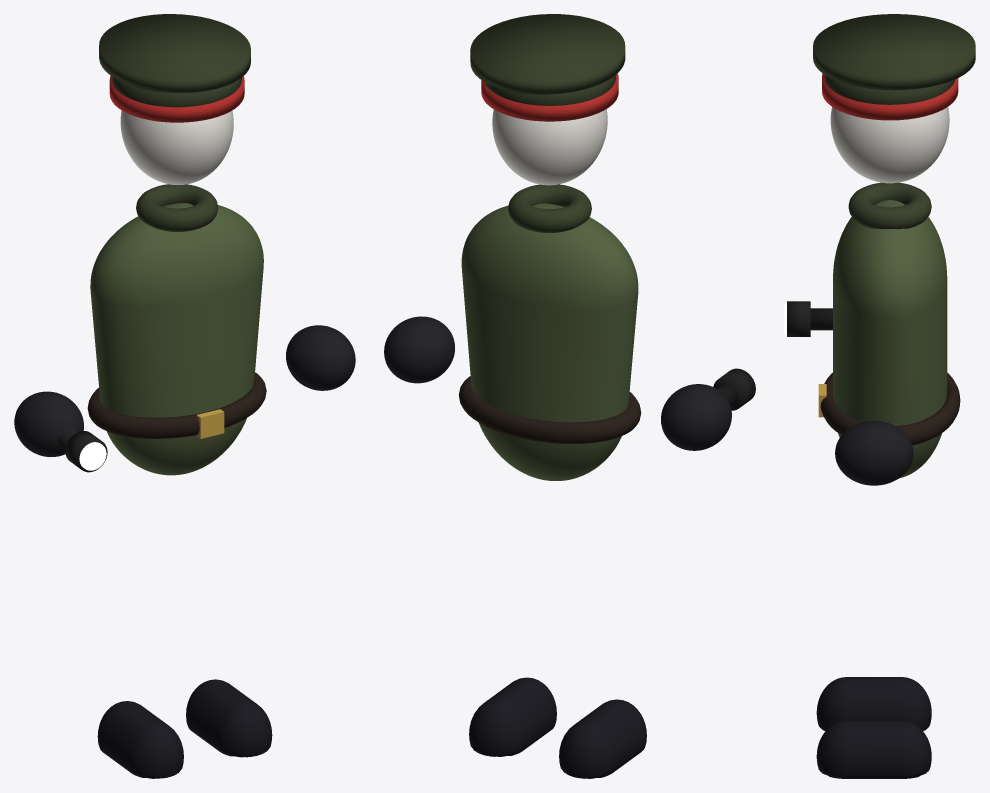
The model's file is Guard.glb.
3 renders of one model, left to right at view 1: azimuth 30°, elevation 25°; view 2: azimuth 150°, elevation 25°; view 3: azimuth 270°, elevation 25°, orthographic.
Visible parts, largest first — view 1: Torso, Head_Cap, Head, Foot_L, Foot_R, Torso_Belt, Hand_L, Hand_R, Torso_Collar, Head_CapBand, Hand_R_Flashlight, Torso_Buckle (+1 smaller); view 2: Torso, Head_Cap, Head, Foot_R, Foot_L, Torso_Belt, Hand_L, Hand_R, Torso_Collar, Head_CapBand, Hand_R_Flashlight; view 3: Torso, Head_Cap, Head, Foot_L, Foot_R, Hand_L, Torso_Collar, Torso_Belt, Head_CapBand, Hand_R_Flashlight.
Part boxes in pixels (left/top/right/bottom): Torso: left=90, top=203, right=263, bottom=475; Head_Cap: left=99, top=14, right=250, bottom=107; Head: left=120, top=110, right=233, bottom=184; Foot_L: left=186, top=679, right=272, bottom=757; Foot_R: left=97, top=701, right=183, bottom=778; Torso_Belt: left=87, top=372, right=266, bottom=438; Hand_L: left=286, top=325, right=355, bottom=390; Hand_R: left=14, top=391, right=83, bottom=456; Torso_Collar: left=136, top=184, right=218, bottom=231; Head_CapBand: left=109, top=76, right=244, bottom=122; Hand_R_Flashlight: left=58, top=427, right=107, bottom=472; Torso_Buckle: left=196, top=409, right=224, bottom=438; Torso: left=461, top=203, right=638, bottom=480; Head_Cap: left=470, top=14, right=625, bottom=105; Head: left=492, top=109, right=607, bottom=185; Foot_R: left=559, top=699, right=646, bottom=778; Foot_L: left=469, top=677, right=556, bottom=756; Torso_Belt: left=459, top=376, right=641, bottom=443; Hand_L: left=384, top=316, right=454, bottom=383; Hand_R: left=661, top=384, right=731, bottom=450; Torso_Collar: left=508, top=184, right=591, bottom=232; Head_CapBand: left=481, top=73, right=618, bottom=121; Hand_R_Flashlight: left=713, top=368, right=755, bottom=410; Torso: left=833, top=200, right=947, bottom=478; Head_Cap: left=813, top=14, right=975, bottom=104; Head: left=830, top=107, right=949, bottom=183; Foot_L: left=816, top=720, right=931, bottom=778; Foot_R: left=816, top=677, right=931, bottom=730; Hand_L: left=835, top=421, right=913, bottom=485; Torso_Collar: left=848, top=182, right=931, bottom=228; Torso_Belt: left=820, top=372, right=960, bottom=445; Head_CapBand: left=822, top=73, right=958, bottom=120; Hand_R_Flashlight: left=787, top=301, right=832, bottom=336.
Size of the model in its own units: 0.971 by 1.95 by 0.483.
